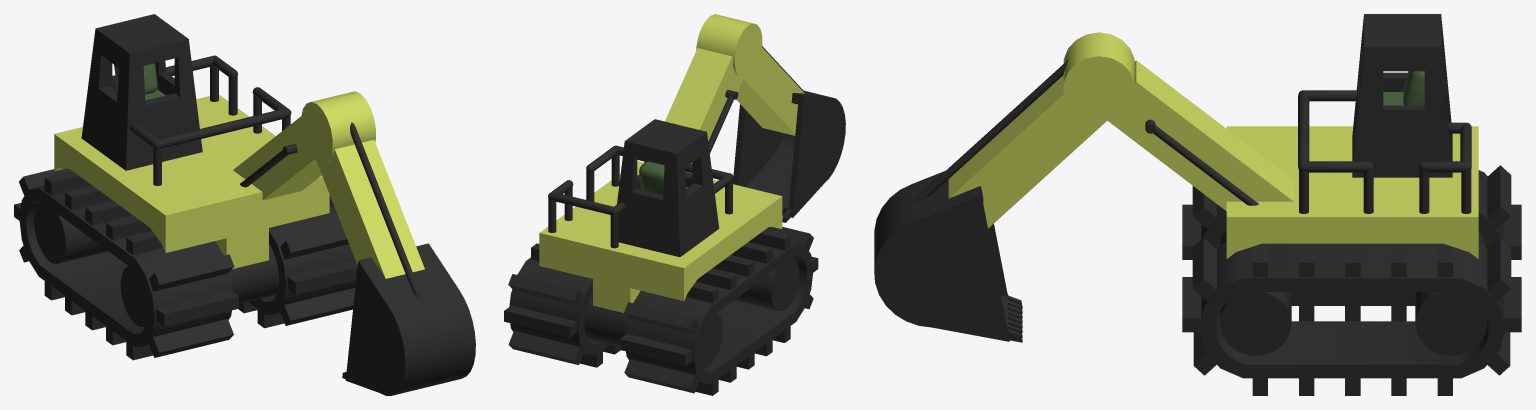
Rendered from Player.glb.
3 renders of one model, left to right at view 1: azimuth 30°, elevation 25°; view 2: azimuth 150°, elevation 25°; view 3: azimuth 270°, elevation 25°, orthographic. The views are drawn at different scales.
Parts seen in each view (by area): view 1: Box044, Tube001 (×2), Line001, Box001 (×12), Box045, Box048, Cylinder001 (×2), Cylinder003, Box047, Cylinder008, ChamferCyl005, ChamferBox001 (+1 smaller); view 2: Box044, Tube001 (×2), Box001 (×12), Box045, Line001, Cylinder001 (×2), Box047, Box048, Cylinder003, ChamferBox001, ChamferCyl002, Cylinder004 (+2 smaller); view 3: Tube001 (×2), Box044, Line001, Box045, Box001 (×13), Box047, Box048, Cylinder001 (×2), Cylinder003, Cylinder008, Cylinder004, ChamferCyl004 (+4 smaller).
Boxes of the visible parts, x1,y1,x2,y2 form: Box044: (54, 94, 329, 269); Tube001 (×2): (19, 185, 355, 347); Line001: (342, 243, 475, 395); Box001 (×12): (19, 168, 357, 357); Box045: (81, 14, 202, 170); Box048: (317, 140, 424, 278); Cylinder001 (×2): (34, 202, 279, 327); Cylinder003: (301, 91, 375, 163); Box047: (233, 116, 321, 200); Cylinder008: (350, 122, 422, 299); ChamferCyl005: (158, 108, 289, 148); ChamferBox001: (114, 63, 157, 94); Box044: (539, 161, 782, 312); Tube001 (×2): (509, 241, 813, 383); Box001 (×12): (504, 227, 813, 393); Box045: (617, 119, 719, 257); Line001: (733, 90, 845, 222); Cylinder001 (×2): (584, 257, 799, 366); Box047: (665, 48, 743, 173); Box048: (736, 47, 804, 135); Cylinder003: (696, 14, 762, 77); ChamferBox001: (639, 161, 664, 194); ChamferCyl002: (551, 192, 614, 214); Cylinder004: (708, 95, 733, 153); Tube001 (×2): (1199, 170, 1505, 378); Box044: (1226, 126, 1478, 258); Line001: (874, 171, 1022, 342); Box045: (1352, 14, 1452, 177); Box001 (×13): (1182, 165, 1521, 375); Box047: (1107, 60, 1293, 210); Box048: (948, 75, 1107, 228); Cylinder001 (×2): (1219, 231, 1487, 355); Cylinder003: (1063, 32, 1134, 121); Cylinder008: (911, 59, 1068, 202); Cylinder004: (1153, 125, 1258, 205); ChamferCyl004: (1298, 161, 1373, 172).
Bounding box in the file's own units: 0.2666 × 0.3368 × 0.6298.
